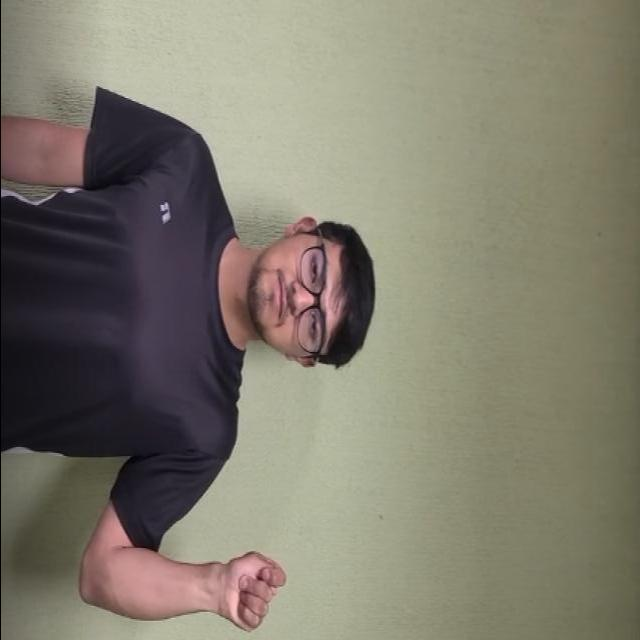T: (198, 527, 296, 640)
